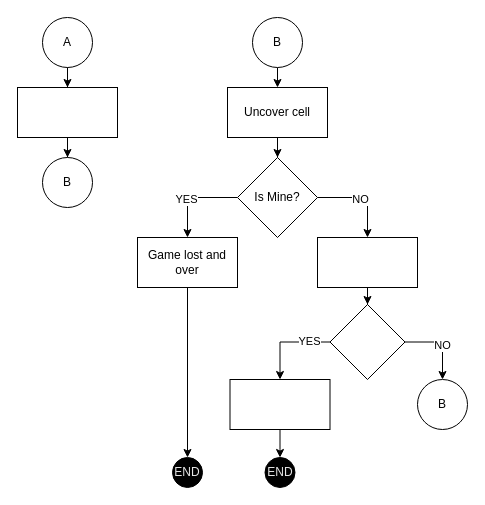
Some shapes in this 485 by 505 pixel diagram are drawn without their labels. The centre of each missing label's shape, as x and y in pixels:
"Create game" goes at point (67, 112).
"Game won and over" goes at point (279, 404).
"Game won?" goes at point (367, 342).
"Walk through covered neighboring cells" goes at point (367, 262).
